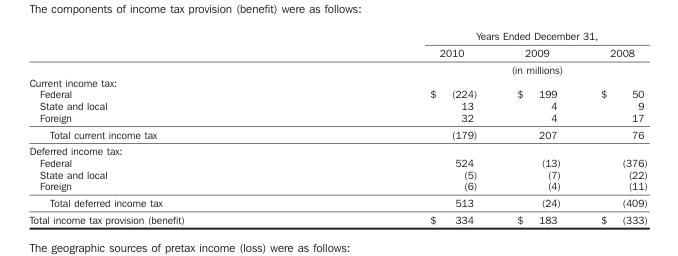table: (28, 29, 646, 225)
table column: (28, 29, 306, 225), (306, 29, 496, 225), (496, 29, 579, 225), (579, 29, 646, 225)
table column header: (28, 29, 646, 75)
table projected row header: (28, 142, 646, 156), (28, 75, 646, 87)
table row: (28, 43, 646, 60), (28, 125, 646, 142), (28, 193, 646, 210), (28, 60, 646, 75), (28, 210, 646, 225), (28, 29, 646, 43), (28, 111, 646, 125), (28, 142, 646, 156), (28, 179, 646, 193), (28, 75, 646, 87), (28, 87, 646, 99), (28, 99, 646, 111), (28, 167, 646, 179), (28, 156, 646, 167)
table spanning cell: (306, 60, 646, 75), (306, 29, 646, 43)
